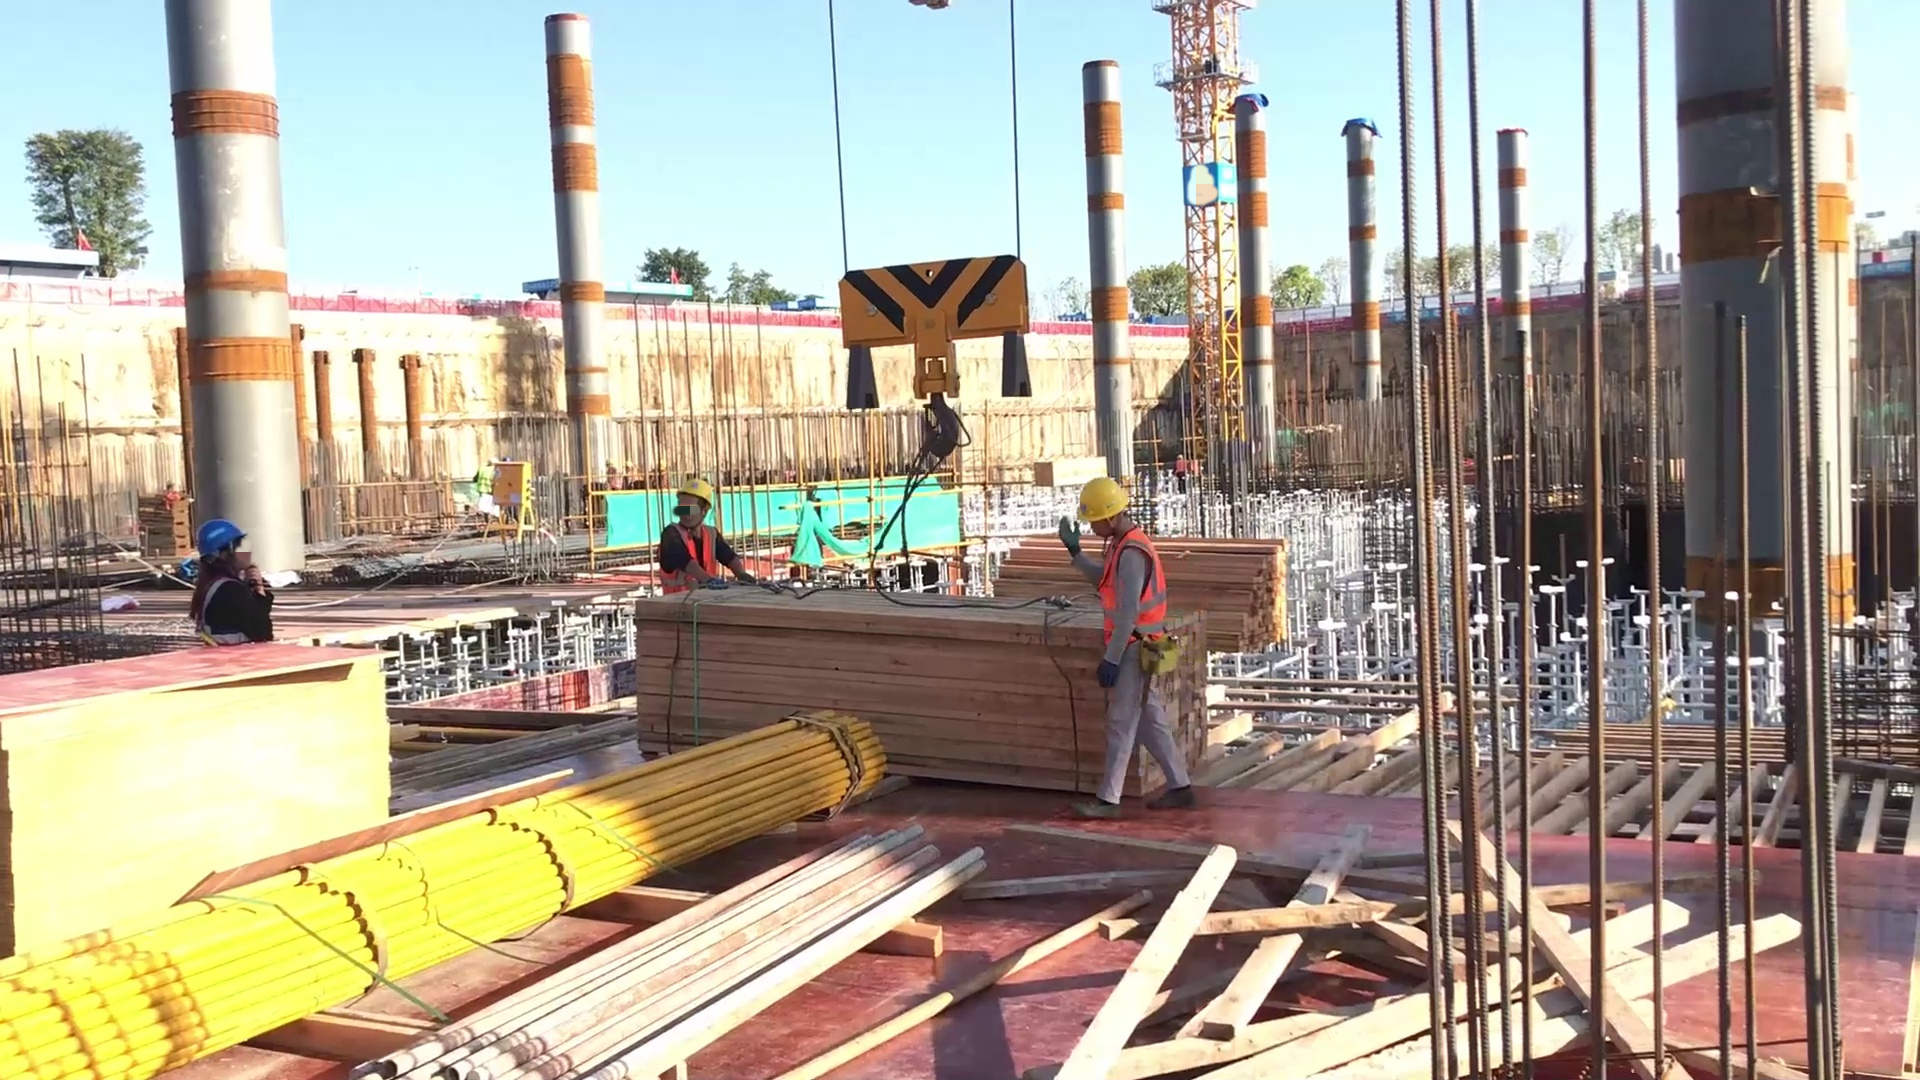board: (1, 624, 429, 995)
helmet: (1065, 465, 1135, 524), (182, 510, 244, 558), (670, 468, 729, 514)
hook: (829, 245, 1035, 395)
person: (1043, 480, 1212, 796), (182, 522, 283, 647), (639, 476, 736, 581)
rebar: (328, 812, 1009, 1080)
vest: (1093, 539, 1178, 650), (665, 529, 717, 588)
wood: (619, 560, 1242, 791), (989, 512, 1308, 668)
